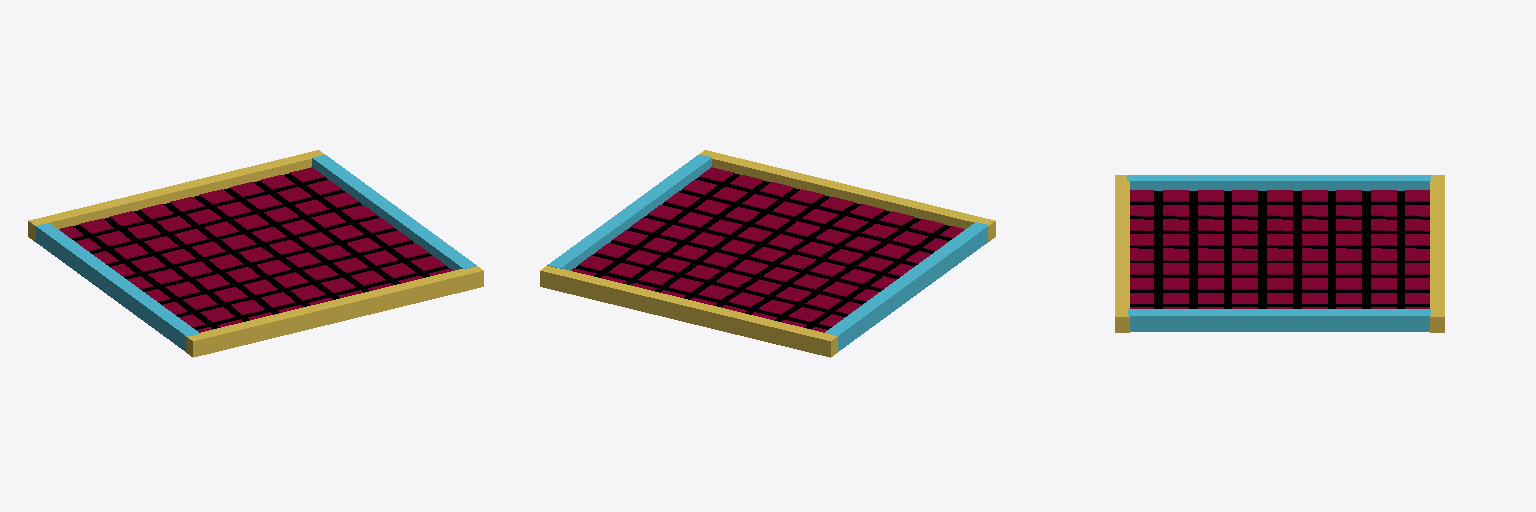
File: boardx7.obj
3 views of the same model, side by side, from view 1: azimuth 30°, elevation 25°; view 2: azimuth 150°, elevation 25°; view 3: azimuth 270°, elevation 25° (orthographic).
Visible parts, largest first — view 1: Plane001, Box016, Box014, Box017, Box015, Box006, Box010, Box011, Box008, Box007, Box009, Box005 (+2 smaller); view 2: Plane001, Box017, Box014, Box016, Box015, Box005, Box006, Box008, Box010, Box011, Box009, Box007 (+2 smaller); view 3: Plane001, Box015, Box014, Box007, Box008, Box011, Box005, Box006, Box009, Box010, Box003, Box017 (+2 smaller).
Part boxes in pixels (x1,y1,x2,y2): Plane001: (72,173,448,329); Box016: (186,266,483,357); Box014: (36,223,200,351); Box017: (28,150,324,241); Box015: (312,155,476,270); Box006: (110,205,376,276); Box010: (162,243,428,314); Box011: (179,256,445,327); Box008: (127,218,393,289); Box007: (93,192,358,263); Box009: (145,230,410,301); Box005: (75,180,341,250); Plane001: (576,173,951,329); Box017: (540,266,837,357); Box014: (825,222,988,351); Box016: (700,150,995,241); Box015: (547,154,711,270); Box005: (578,255,844,326); Box006: (613,230,878,301); Box008: (630,217,896,288); Box010: (665,192,930,263); Box011: (682,179,948,250); Box009: (648,205,913,276); Box007: (596,243,861,314); Plane001: (1130,191,1429,308); Box015: (1128,309,1430,331); Box014: (1127,175,1430,190); Box007: (1336,190,1361,308); Box008: (1267,190,1292,308); Box011: (1163,190,1188,308); Box005: (1371,190,1396,308); Box006: (1302,190,1327,308); Box009: (1232,190,1257,308); Box010: (1198,190,1223,308); Box003: (1405,190,1429,308); Box017: (1430,175,1444,332).
Size of the model in its own units: 280 by 19.81 by 275.